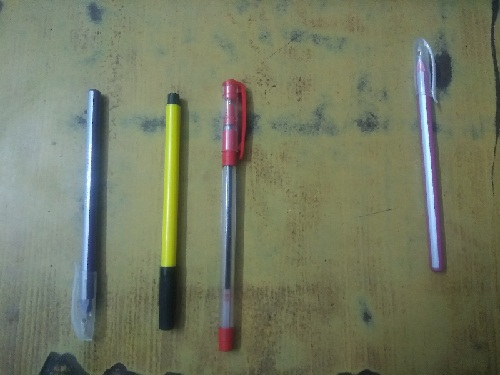pen: (211, 75, 251, 355), (409, 35, 453, 275), (72, 82, 105, 342), (158, 87, 187, 330)
